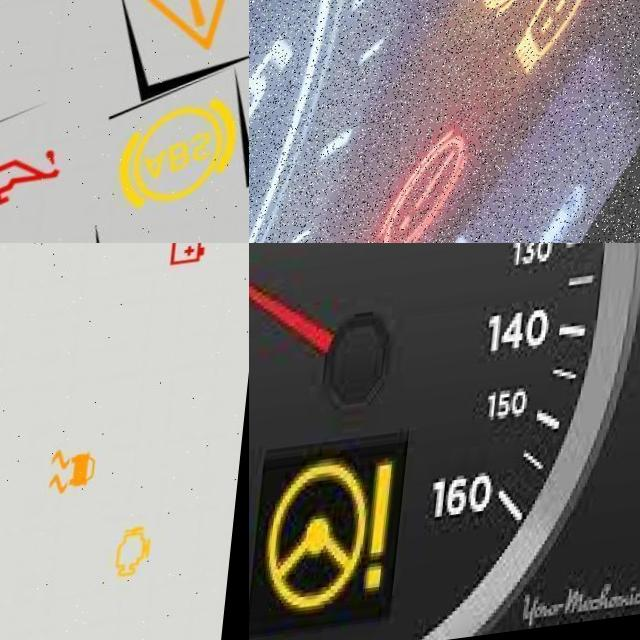Electronic Power Steering: (265, 459, 413, 632)
